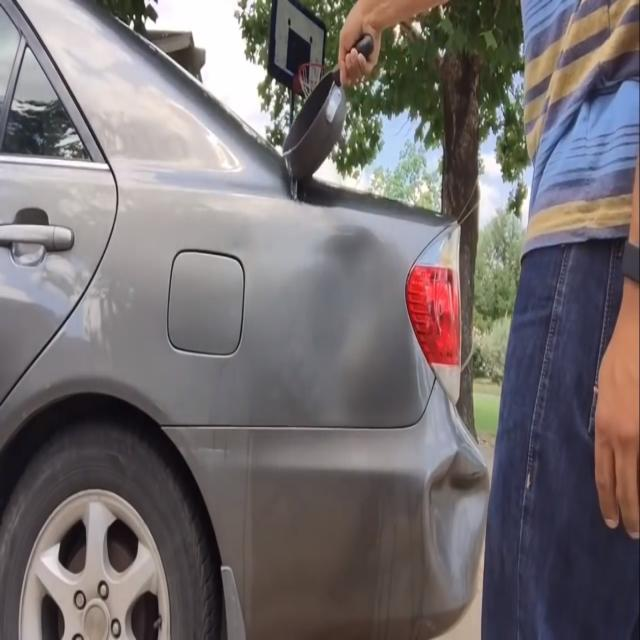dent: (305, 219, 395, 413), (420, 449, 490, 596)
